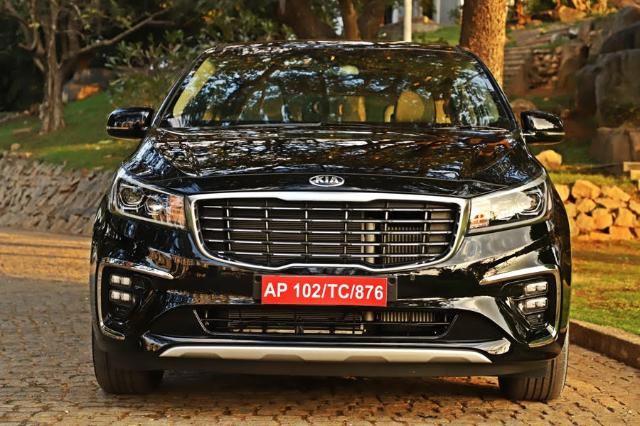kia: (90, 40, 572, 400)
